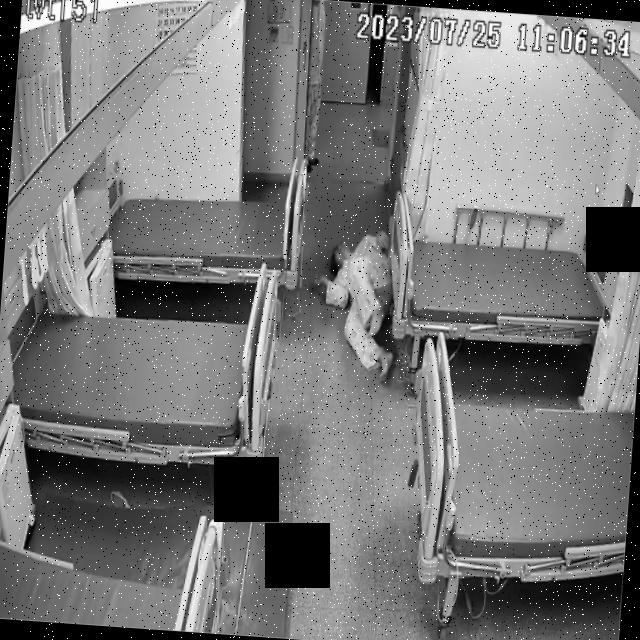bed: (402, 331, 639, 591), (5, 296, 278, 466), (381, 218, 623, 352), (108, 178, 303, 289)
fall: (300, 220, 400, 394)
patient: (300, 217, 400, 394)
